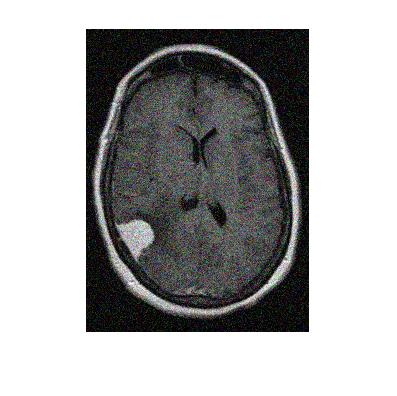Brain_Cancer: (112, 219, 159, 264)
